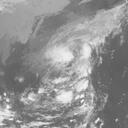cyclone: (40, 43, 93, 97)
